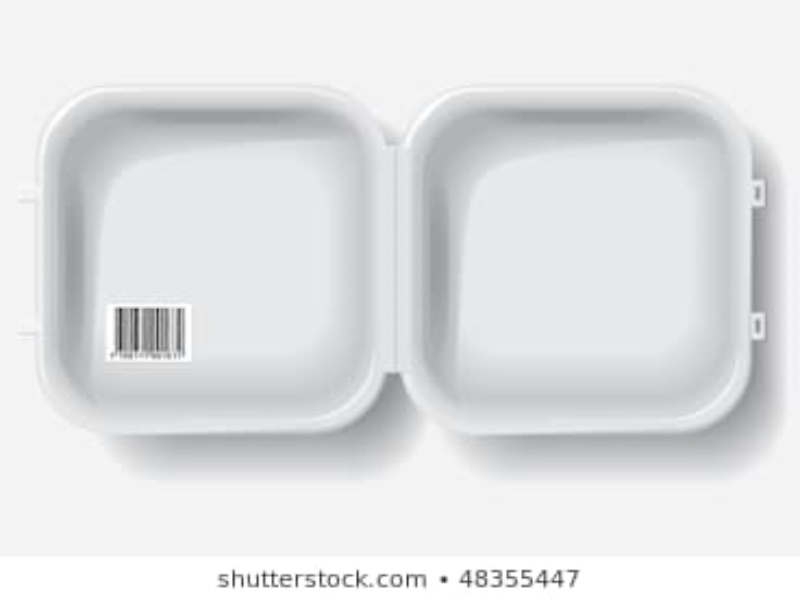plastic-container: (37, 78, 775, 445)
